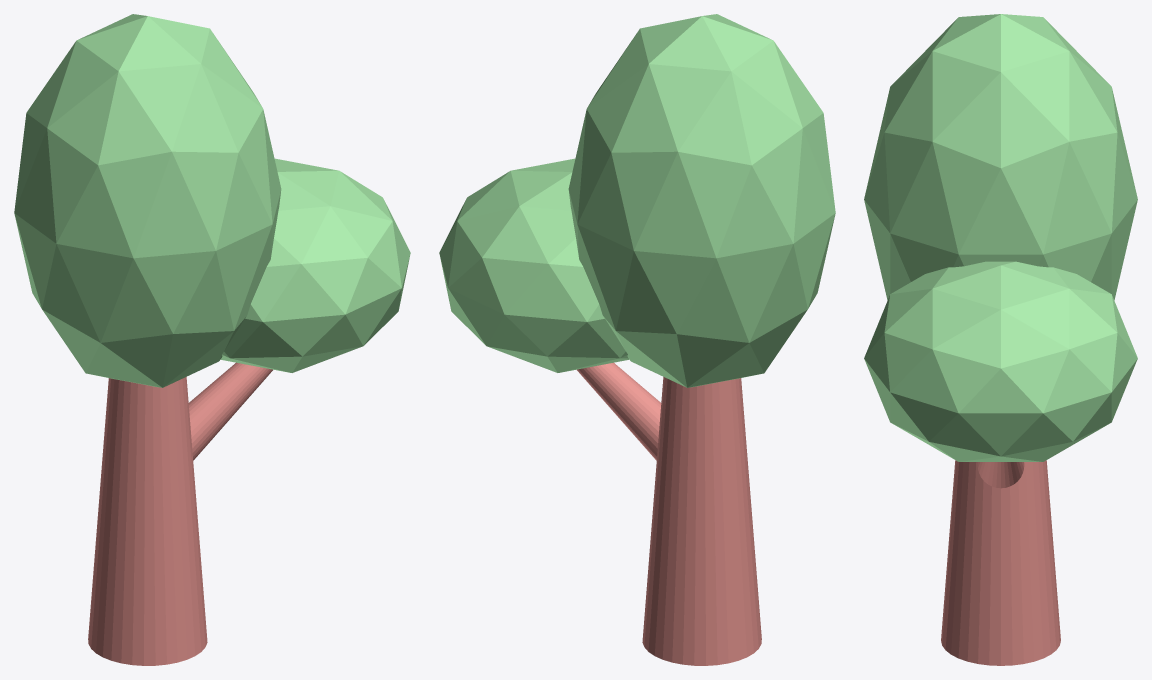
The model's file is leaf_tree.glb.
The picture shows the model from 3 angles, left to right: view 1: azimuth 30°, elevation 25°; view 2: azimuth 150°, elevation 25°; view 3: azimuth 270°, elevation 25°; orthographic projection.
Visible parts, largest first — view 1: Icosphere, Cylinder, Icosphere.001, Cylinder.001; view 2: Icosphere, Cylinder, Icosphere.001, Cylinder.001; view 3: Icosphere, Icosphere.001, Cylinder, Cylinder.001.
Boxes of the visible parts, box(x1,y1,x2,y2) form: Icosphere: box(14, 14, 281, 387); Cylinder: box(88, 377, 207, 665); Icosphere.001: box(220, 158, 410, 372); Cylinder.001: box(188, 362, 272, 460); Icosphere: box(568, 14, 835, 387); Cylinder: box(642, 377, 761, 665); Icosphere.001: box(439, 158, 629, 372); Cylinder.001: box(577, 362, 661, 460); Icosphere: box(864, 14, 1137, 300); Icosphere.001: box(864, 261, 1137, 461); Cylinder: box(941, 460, 1060, 665); Cylinder.001: box(977, 462, 1024, 488).
Bounding box in the file's own units: 3 × 5.05 × 2.
